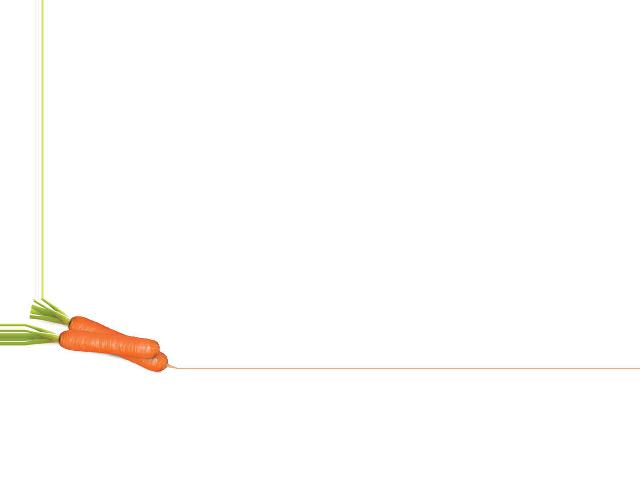carrot: (59, 315, 176, 369)
